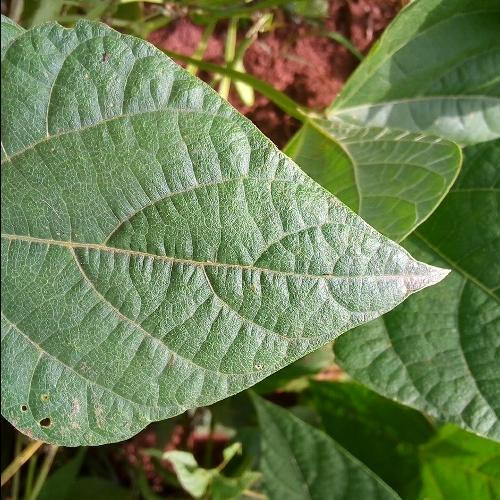hawar: (6, 381, 102, 438), (63, 39, 142, 102), (389, 256, 454, 299), (248, 353, 274, 381)
